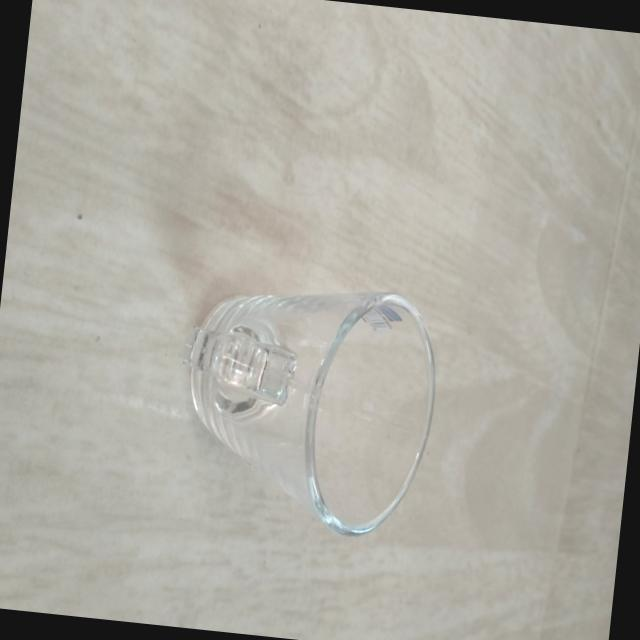glass-VX4N: (170, 272, 447, 542)
